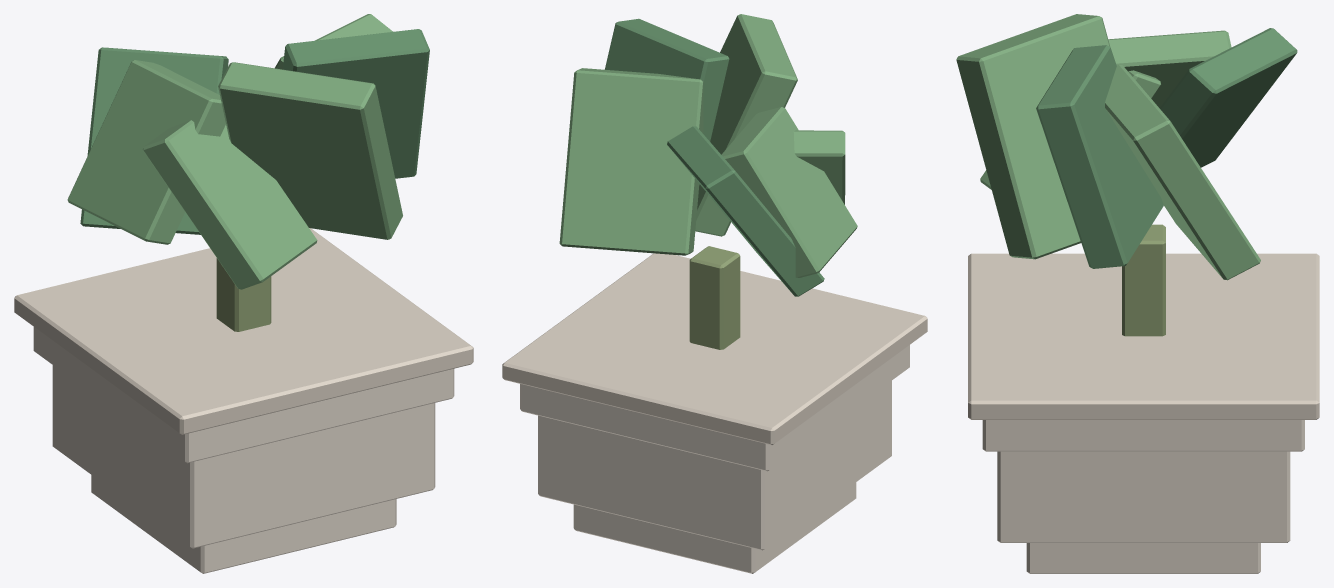
The model's file is prop_plant_01.glb.
3 views of the same model, side by side, from view 1: azimuth 30°, elevation 25°; view 2: azimuth 150°, elevation 25°; view 3: azimuth 270°, elevation 25° (orthographic). The views are drawn at different scales.
Parts seen in each view (by area): view 1: prop_plant_01; view 2: prop_plant_01; view 3: prop_plant_01.
Boxes of the visible parts, x1=… form: prop_plant_01: x1=14, y1=14, x2=473, y2=573; prop_plant_01: x1=502, y1=14, x2=927, y2=573; prop_plant_01: x1=956, y1=14, x2=1319, y2=573.
Size of the model in its own units: 0.3 by 0.45 by 0.3.
